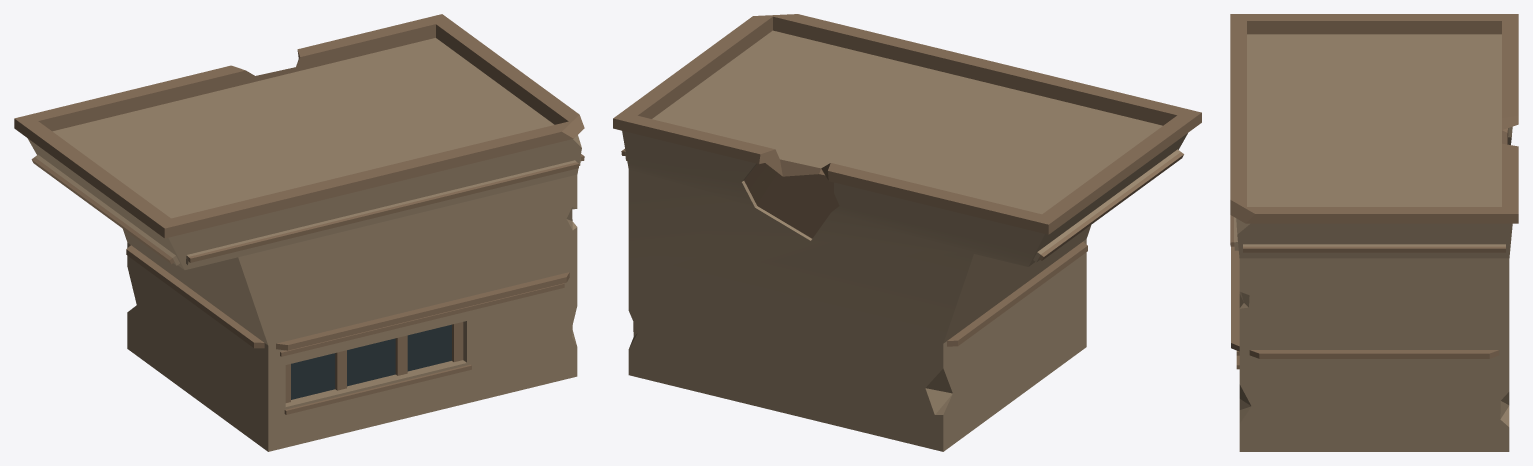
File: LP_PostApoc_BuildingPreset1.fbx
3 renders of one model, left to right at view 1: azimuth 30°, elevation 25°; view 2: azimuth 150°, elevation 25°; view 3: azimuth 270°, elevation 25°, orthographic. The views are drawn at different scales.
Visible parts, largest first — view 1: BuildingPreset1; view 2: BuildingPreset1; view 3: BuildingPreset1.
Part boxes in pixels (x1,y1,x2,y2): BuildingPreset1: (14, 14, 584, 451); BuildingPreset1: (613, 14, 1201, 451); BuildingPreset1: (1230, 14, 1518, 451).
Bounding box in the file's own units: 1052 × 595 × 641.
